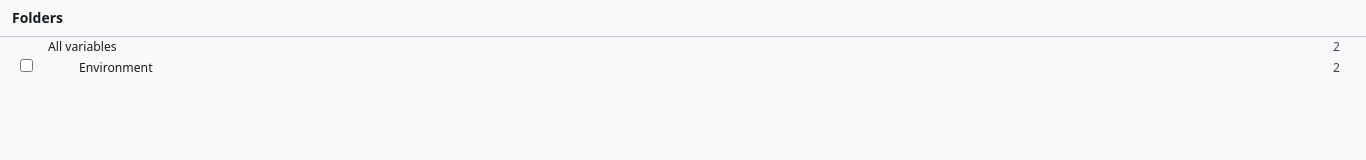
GlobalFolderTree › selecting a folder does not also change the folder filter
Expected: the text "Environment" is shown, left=79, top=58, right=152, bottom=76
Click the checkbox with test id "global-folder-select-env": {"x": 26, "y": 66} left=20, top=59, right=33, bottom=72
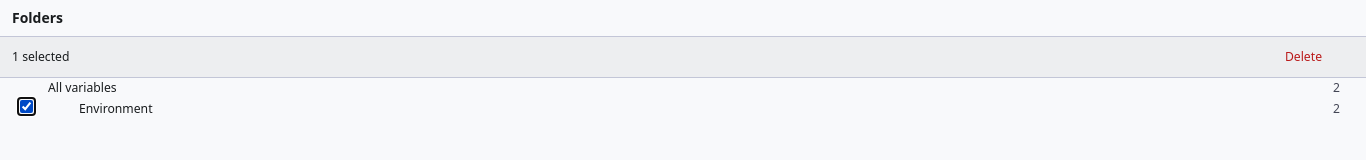
Expected: the element with test id "folder-bulk-bar" is shown, left=0, top=37, right=1365, bottom=78
